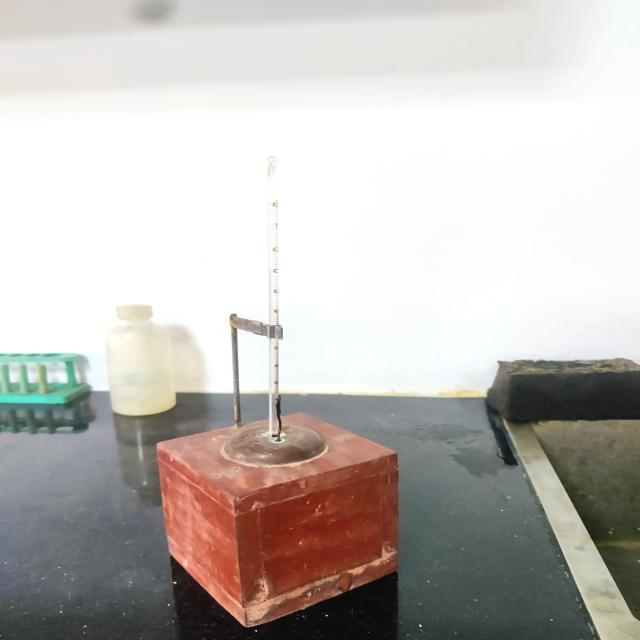Calorimeter: (119, 129, 426, 640)
